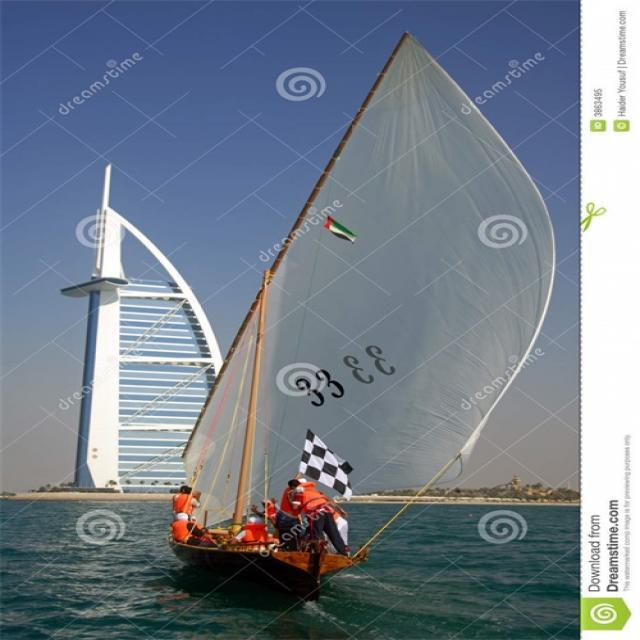Ship: (152, 23, 561, 595)
